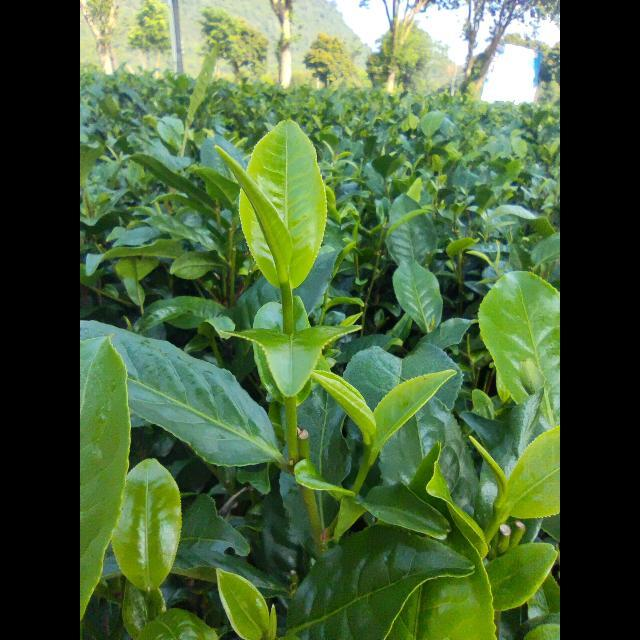Stem: (284, 307, 292, 326), (361, 464, 368, 474), (494, 517, 501, 525)
